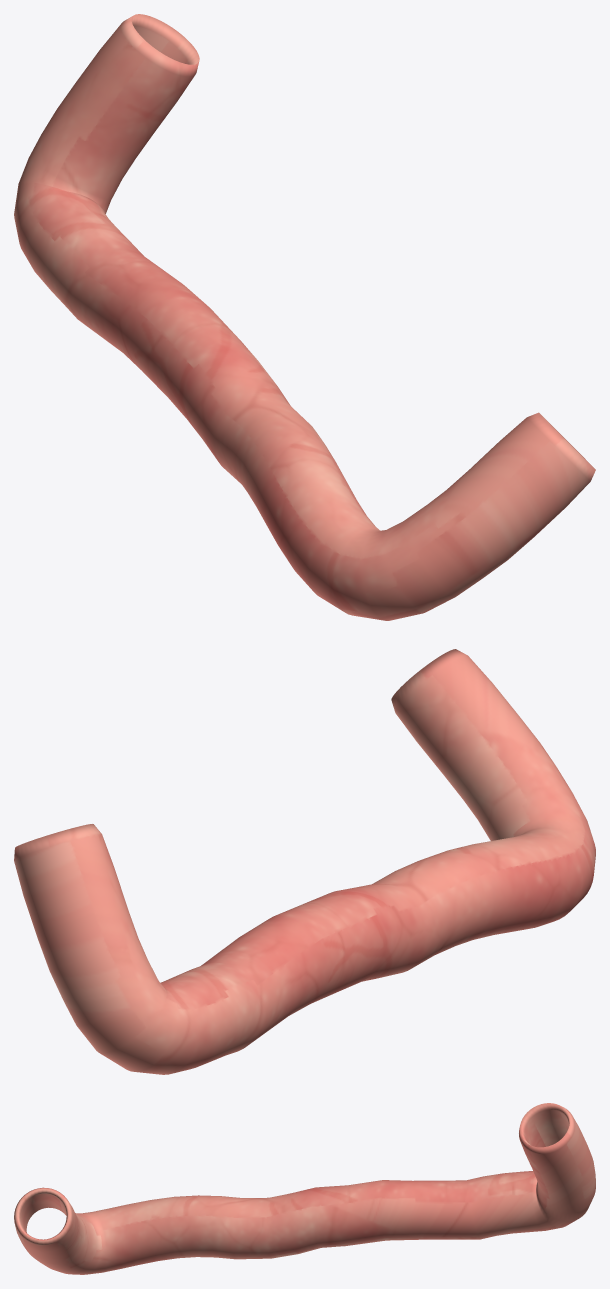
The model's file is Duodenom.glb.
The picture shows the model from 3 angles, top to bottom: view 1: azimuth 30°, elevation 25°; view 2: azimuth 150°, elevation 25°; view 3: azimuth 270°, elevation 25°; orthographic projection. The views are drawn at different scales.
Visible parts, largest first — view 1: Duodenum; view 2: Duodenum; view 3: Duodenum.
Boxes of the visible parts, x1,y1,x2,y2 form: Duodenum: (14,14,595,620); Duodenum: (14,649,595,1074); Duodenum: (14,1103,595,1274).
Bounding box in the file's own units: 24.44 × 31.43 × 81.44.
Materials: 1 (1 with a texture image).
